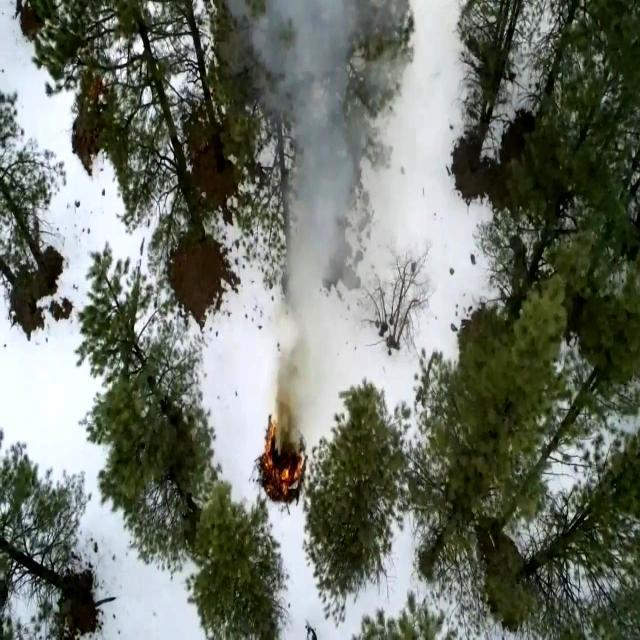Fire: (261, 419, 302, 498)
Smoke: (248, 9, 396, 393)
